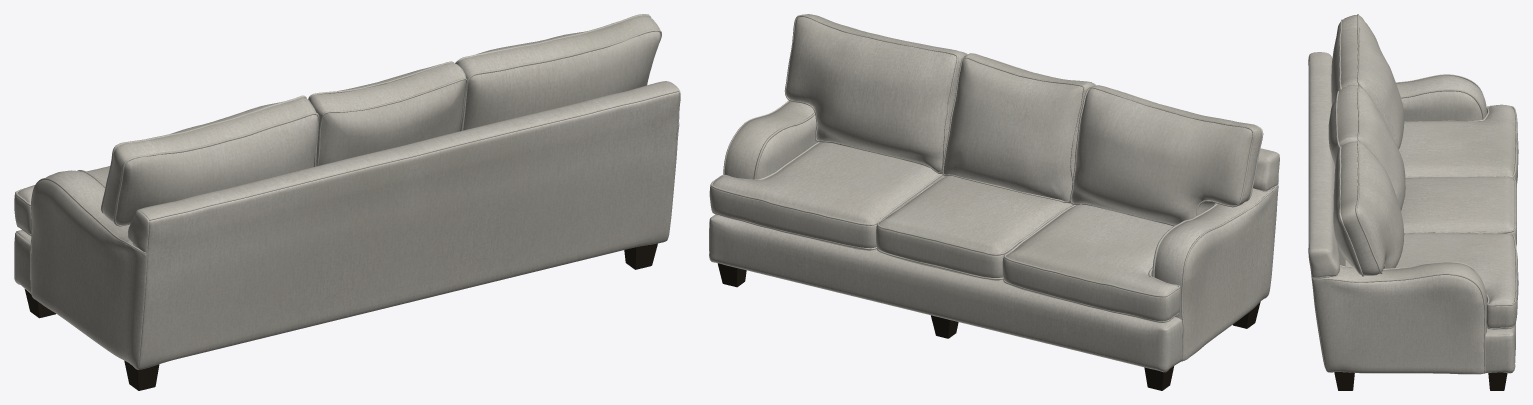
File: abo_B07QCMB78S.glb
3 renders of one model, left to right at view 1: azimuth 30°, elevation 25°; view 2: azimuth 150°, elevation 25°; view 3: azimuth 270°, elevation 25°, orthographic. The views are drawn at different scales.
Parts seen in each view (by area): view 1: RootNode; view 2: RootNode; view 3: RootNode.
Boxes of the visible parts, x1,y1,x2,y2 form: RootNode: (14,14,680,390); RootNode: (709,14,1279,390); RootNode: (1308,14,1518,390).
Size of the model in its own units: 2.32 by 0.9907 by 1.02.
Materials: 1 (1 with a texture image).
